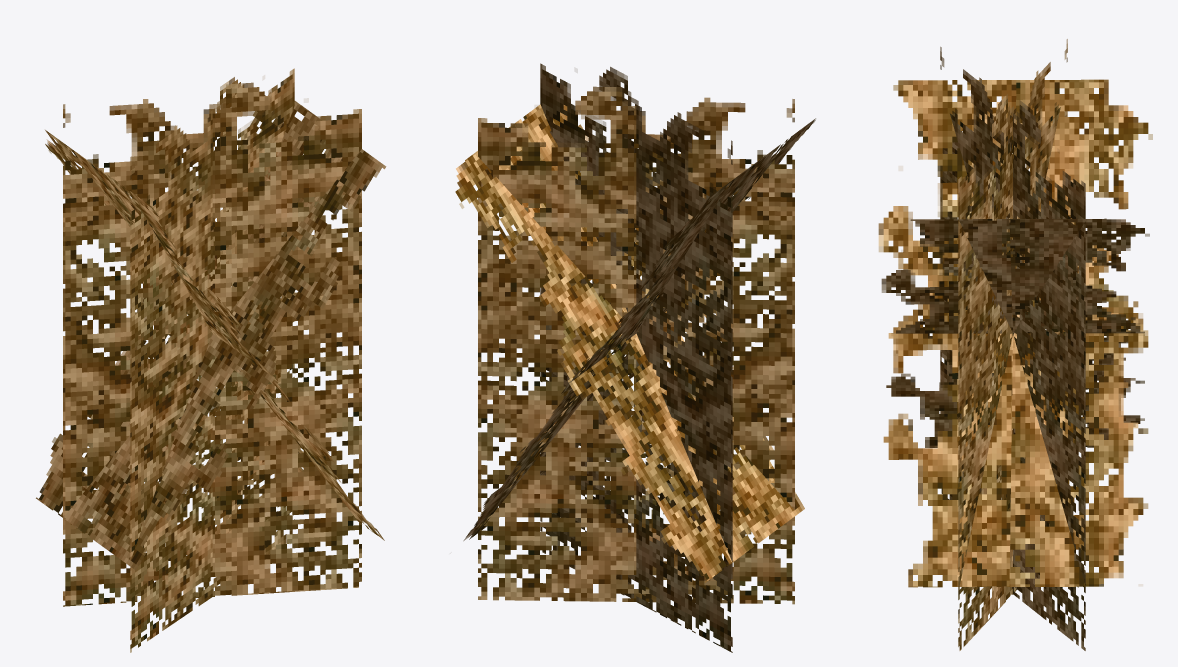
The model's file is bush_tall_half_full_overgrown_autumn.glb.
3 views of the same model, side by side, from view 1: azimuth 30°, elevation 25°; view 2: azimuth 150°, elevation 25°; view 3: azimuth 270°, elevation 25° (orthographic). The views are drawn at different scales.
Visible parts, largest first — view 1: bush_tall_half_full_overgrown_autumn; view 2: bush_tall_half_full_overgrown_autumn; view 3: bush_tall_half_full_overgrown_autumn.
Boxes of the visible parts, x1,y1,x2,y2 form: bush_tall_half_full_overgrown_autumn: [36, 68, 386, 652]; bush_tall_half_full_overgrown_autumn: [455, 63, 815, 652]; bush_tall_half_full_overgrown_autumn: [878, 39, 1152, 650].
Size of the model in its own units: 1 by 2.06 by 1.08.
1 material, 1 textured.
